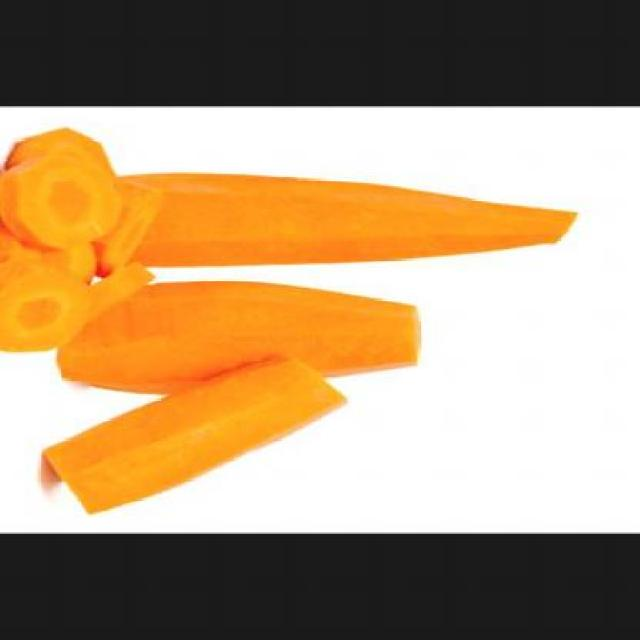carrot: (41, 353, 350, 515), (95, 171, 577, 267), (55, 280, 419, 395)
